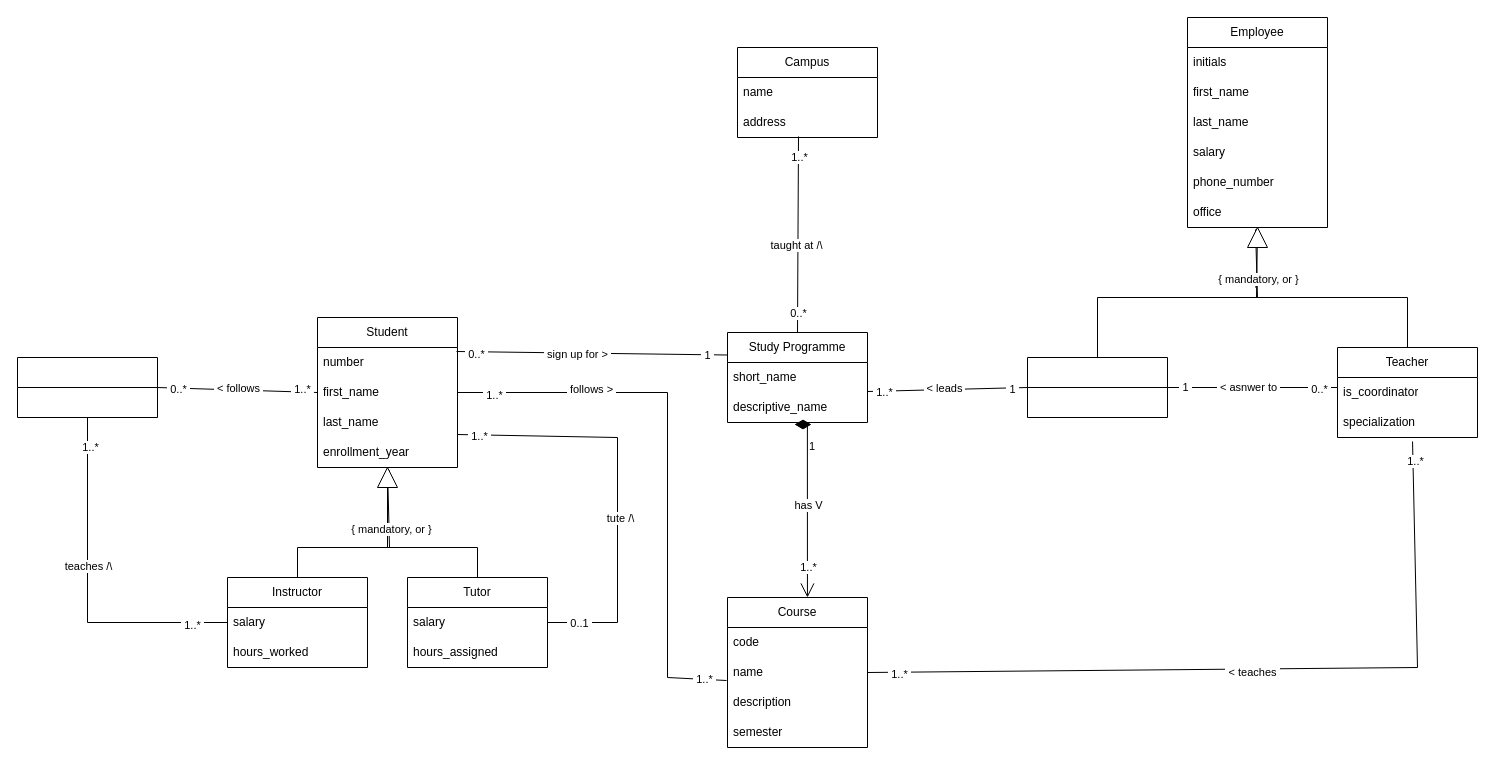
Image size: 1495x765. Some labels were removed from this diagram. The centre of each missing label's shape, as x and y in pixels:
"Head of Programme" goes at pixel 1097 387.
"Workshop" goes at pixel 87 387.
